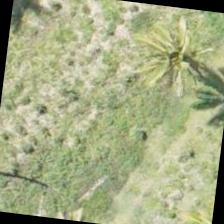Kelapa_Sawit: (127, 2, 223, 103)
